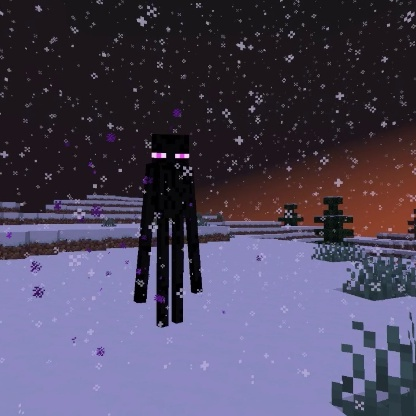enderman: (132, 131, 206, 330)
